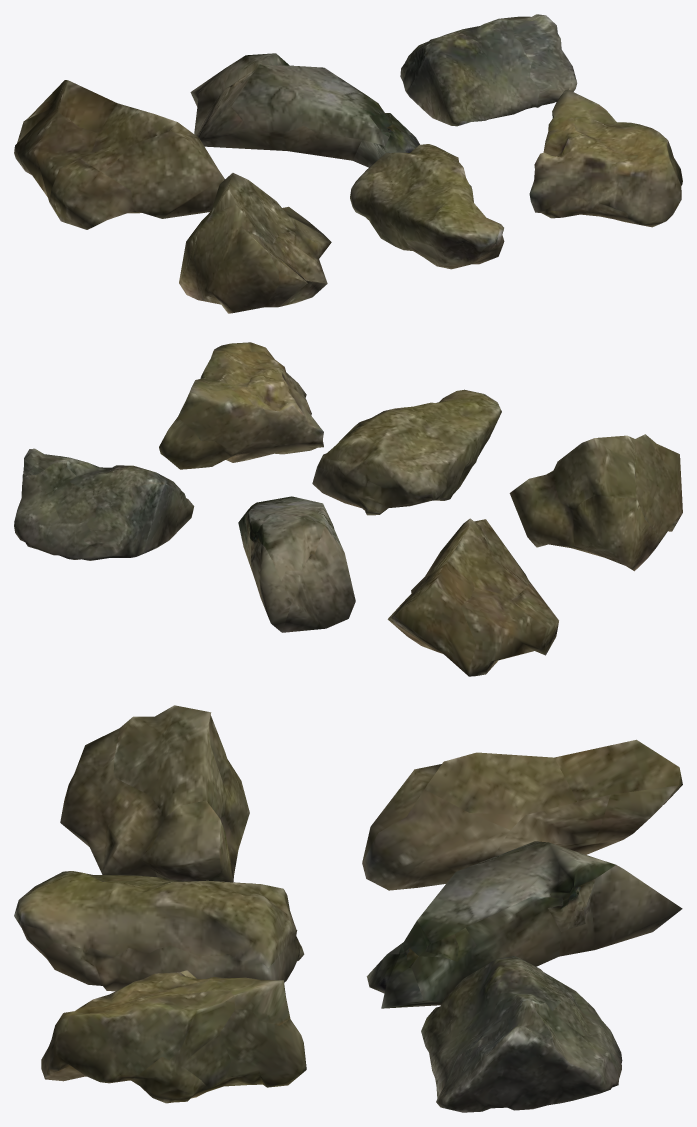
The model's file is rock_moss_set_01_lod1.glb.
The picture shows the model from 3 angles, top to bottom: view 1: azimuth 30°, elevation 25°; view 2: azimuth 150°, elevation 25°; view 3: azimuth 270°, elevation 25°; orthographic projection. The views are drawn at different scales.
Visible parts, largest first — view 1: rock_moss_set_01_rock01, rock_moss_set_01_rock02, rock_moss_set_01_rock06, rock_moss_set_01_rock04, rock_moss_set_01_rock03, rock_moss_set_01_rock05; view 2: rock_moss_set_01_rock04, rock_moss_set_01_rock01, rock_moss_set_01_rock05, rock_moss_set_01_rock03, rock_moss_set_01_rock06, rock_moss_set_01_rock02; view 3: rock_moss_set_01_rock01, rock_moss_set_01_rock02, rock_moss_set_01_rock05, rock_moss_set_01_rock06, rock_moss_set_01_rock04, rock_moss_set_01_rock03.
Part boxes in pixels (bbox=[...]): rock_moss_set_01_rock01: bbox=[14, 80, 224, 229]; rock_moss_set_01_rock02: bbox=[190, 53, 419, 167]; rock_moss_set_01_rock06: bbox=[529, 89, 682, 227]; rock_moss_set_01_rock04: bbox=[179, 173, 331, 313]; rock_moss_set_01_rock03: bbox=[400, 14, 577, 126]; rock_moss_set_01_rock05: bbox=[350, 144, 504, 269]; rock_moss_set_01_rock04: bbox=[509, 434, 682, 571]; rock_moss_set_01_rock01: bbox=[387, 518, 558, 676]; rock_moss_set_01_rock05: bbox=[312, 389, 501, 515]; rock_moss_set_01_rock03: bbox=[14, 448, 194, 560]; rock_moss_set_01_rock06: bbox=[159, 342, 323, 469]; rock_moss_set_01_rock02: bbox=[238, 496, 355, 632]; rock_moss_set_01_rock01: bbox=[362, 739, 682, 890]; rock_moss_set_01_rock02: bbox=[366, 841, 682, 1008]; rock_moss_set_01_rock05: bbox=[14, 871, 304, 991]; rock_moss_set_01_rock06: bbox=[41, 970, 306, 1103]; rock_moss_set_01_rock04: bbox=[60, 705, 249, 882]; rock_moss_set_01_rock03: bbox=[421, 956, 622, 1112].
Bounding box in the file's own units: 7.99 × 1.77 × 6.89.
1 material, 1 textured.
